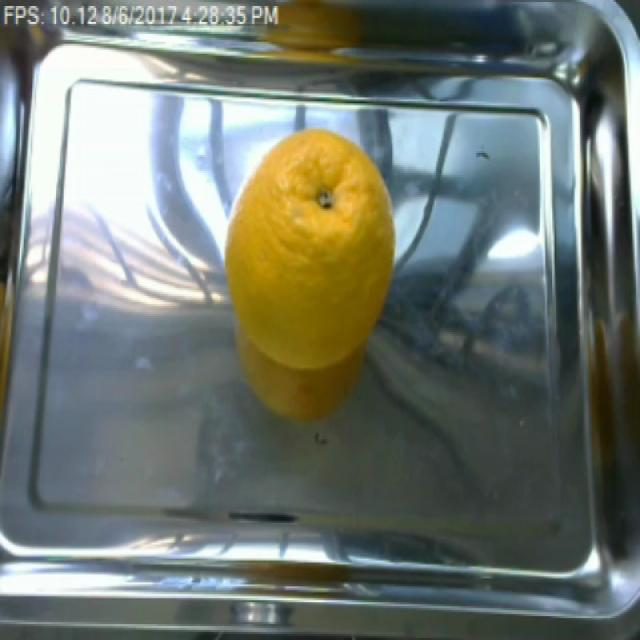Fruit: (220, 116, 400, 422)
